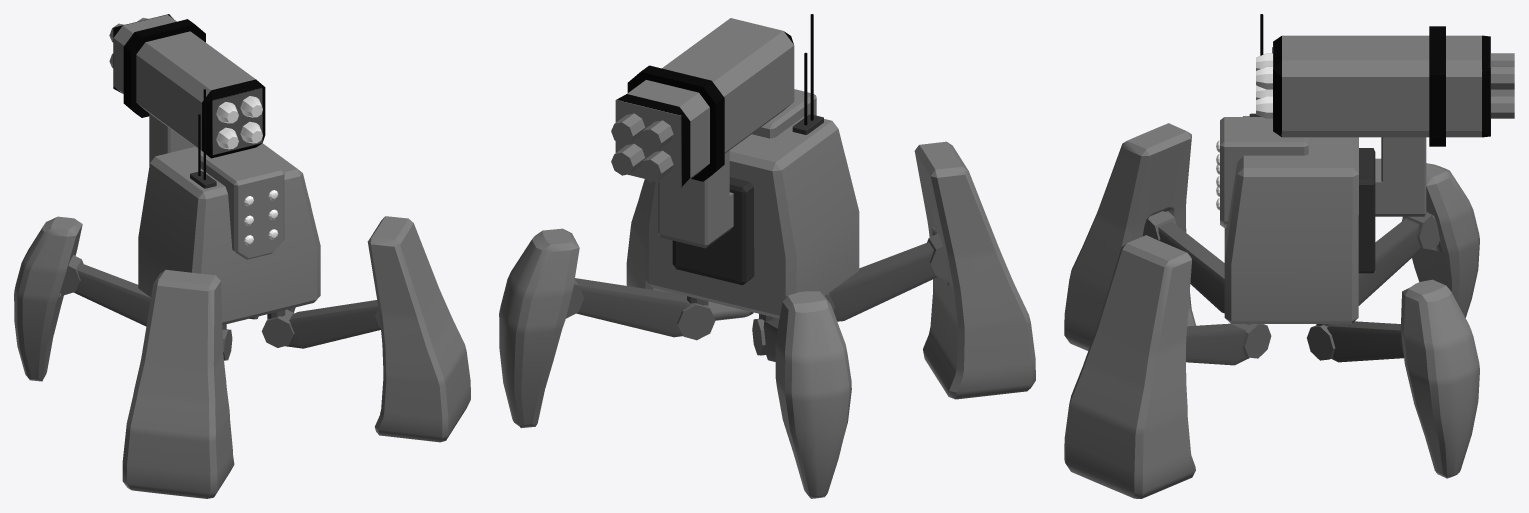
Rendered from enemy2_gray.fbx.
The picture shows the model from 3 angles, left to right: view 1: azimuth 30°, elevation 25°; view 2: azimuth 150°, elevation 25°; view 3: azimuth 270°, elevation 25°; orthographic projection. The views are drawn at different scales.
Visible parts, largest first — view 1: enemy1; view 2: enemy1; view 3: enemy1.
Boxes of the visible parts, x1,y1,x2,y2 form: enemy1: (14, 14, 470, 498); enemy1: (499, 14, 1035, 498); enemy1: (1064, 14, 1514, 498).
Bounding box in the file's own units: 58.62 × 53.61 × 58.53.
1 material, 1 textured.
